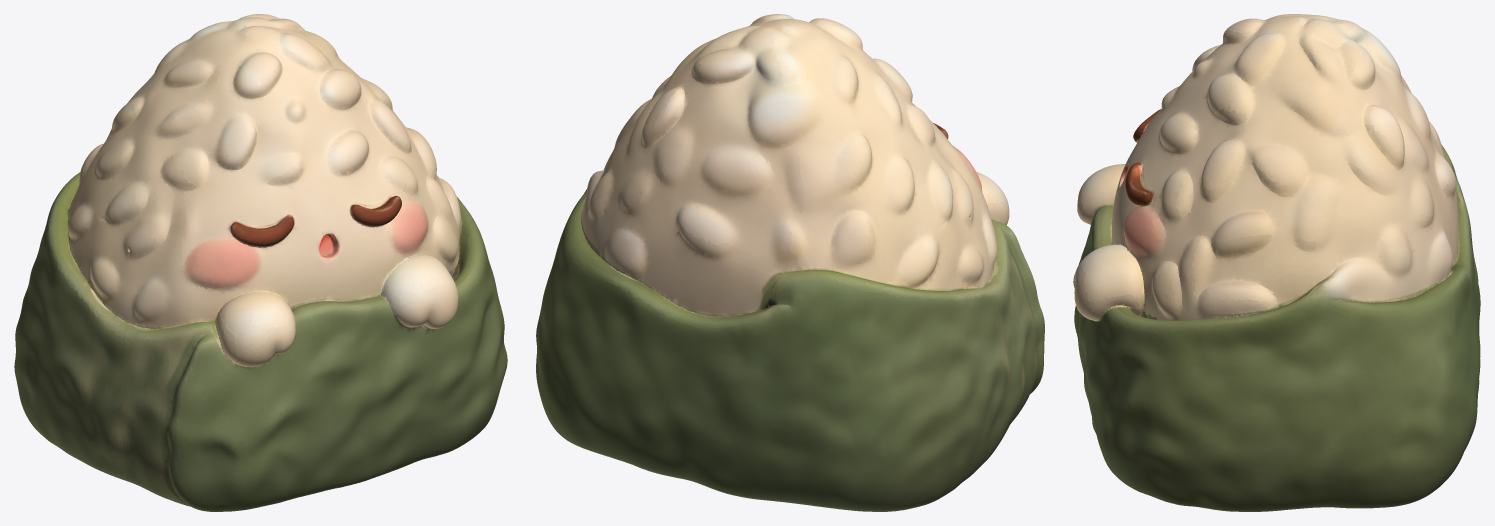
The picture shows the model from 3 angles, left to right: view 1: azimuth 30°, elevation 25°; view 2: azimuth 150°, elevation 25°; view 3: azimuth 270°, elevation 25°; orthographic projection. The views are drawn at different scales.
Parts seen in each view (by area): view 1: geometry_0; view 2: geometry_0; view 3: geometry_0.
Part boxes in pixels (x1,y1,x2,y2): geometry_0: (14,14,507,511); geometry_0: (536,14,1044,511); geometry_0: (1073,14,1480,511).
Bounding box in the file's own units: 0.12 × 0.1099 × 0.1005.
Materials: 1 (1 with a texture image).
